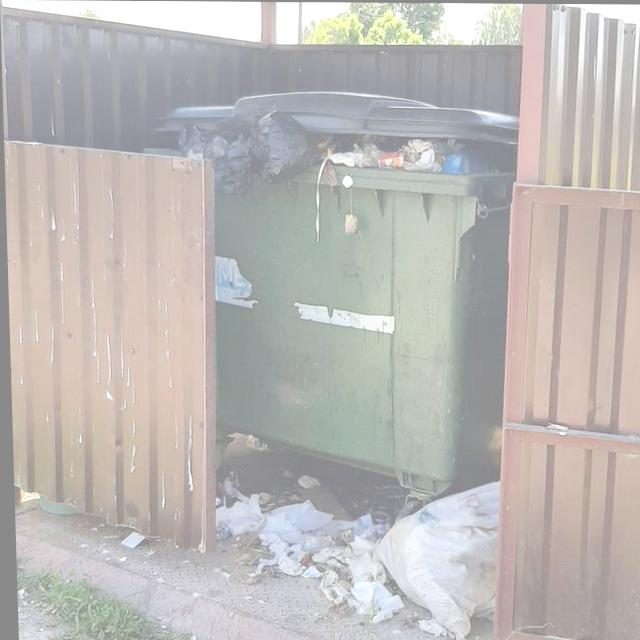Trash_Can_Full: (150, 86, 531, 491)
